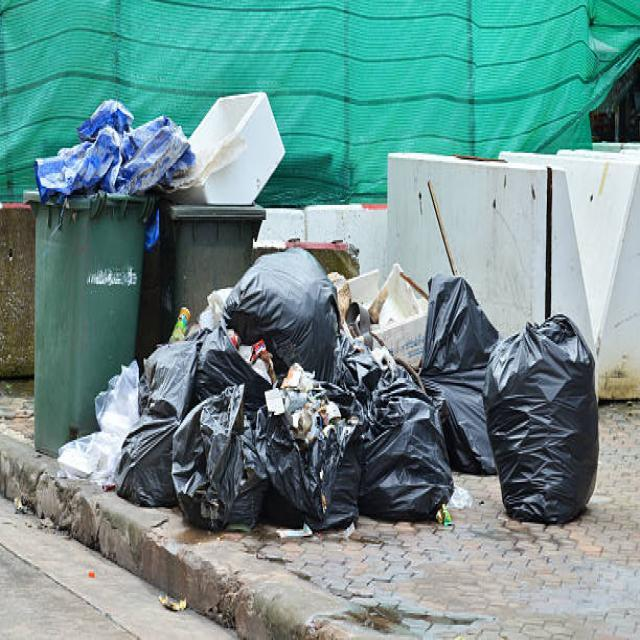garbage: (56, 248, 596, 538), (21, 91, 196, 218), (179, 76, 289, 209)
